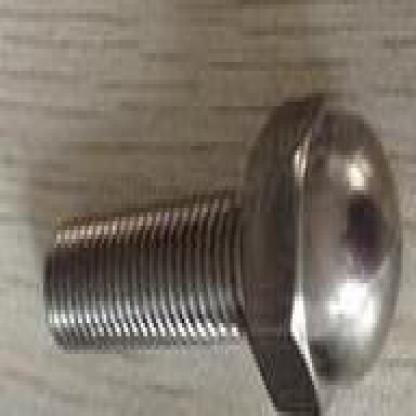FOD: (43, 88, 405, 412)
